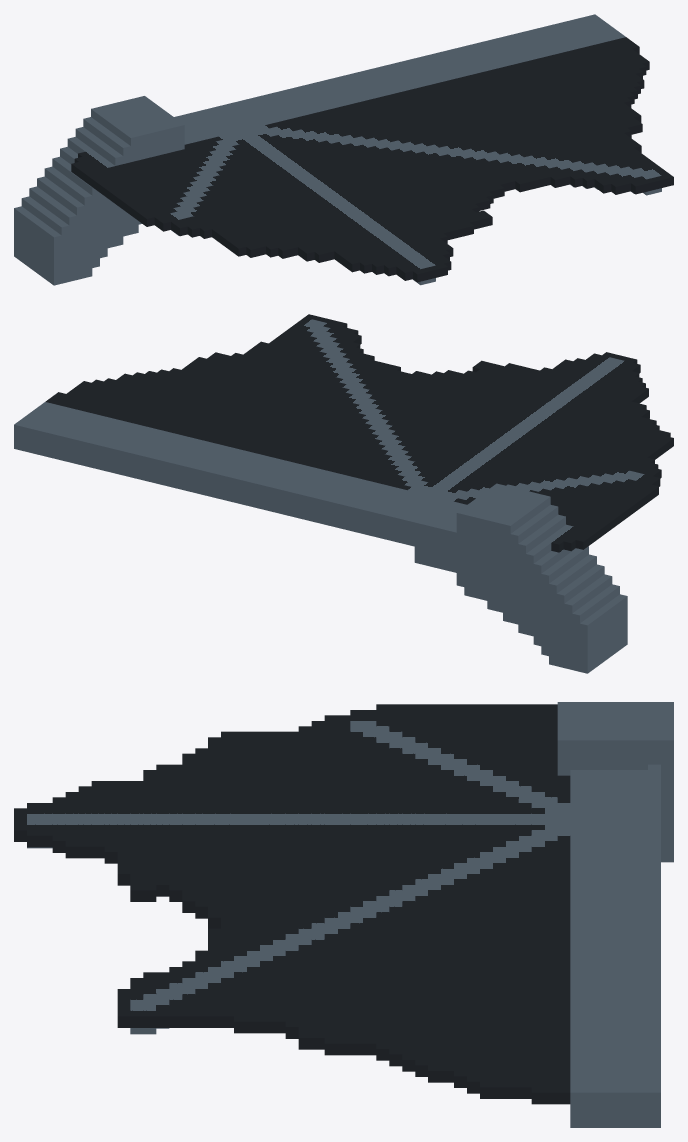
File: 末影龙翅膀-右.gltf
3 views of the same model, one above another, from view 1: azimuth 30°, elevation 25°; view 2: azimuth 150°, elevation 25°; view 3: azimuth 270°, elevation 25° (orthographic). The views are drawn at different scales.
Parts seen in each view (by area): view 1: Object; view 2: Object; view 3: Object.
Boxes of the visible parts, x1,y1,x2,y2 form: Object: (14, 14, 673, 285); Object: (14, 314, 673, 673); Object: (14, 702, 673, 1127).
Bounding box in the file's own units: 75 × 16 × 51.
1 material, 1 textured.
